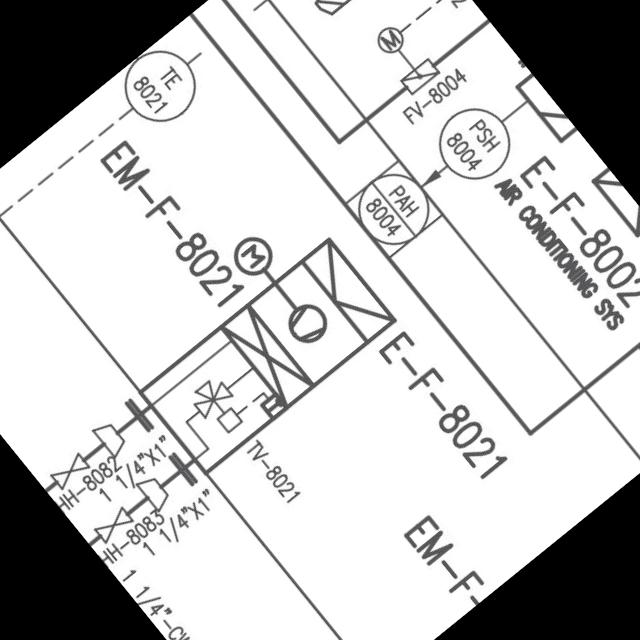3W: (183, 366, 239, 422)
CV2: (396, 51, 446, 98)
GV: (90, 500, 138, 546), (45, 447, 94, 492)
M: (224, 226, 284, 286)
P: (278, 294, 336, 352)
SP: (86, 410, 133, 460), (132, 466, 178, 513)
